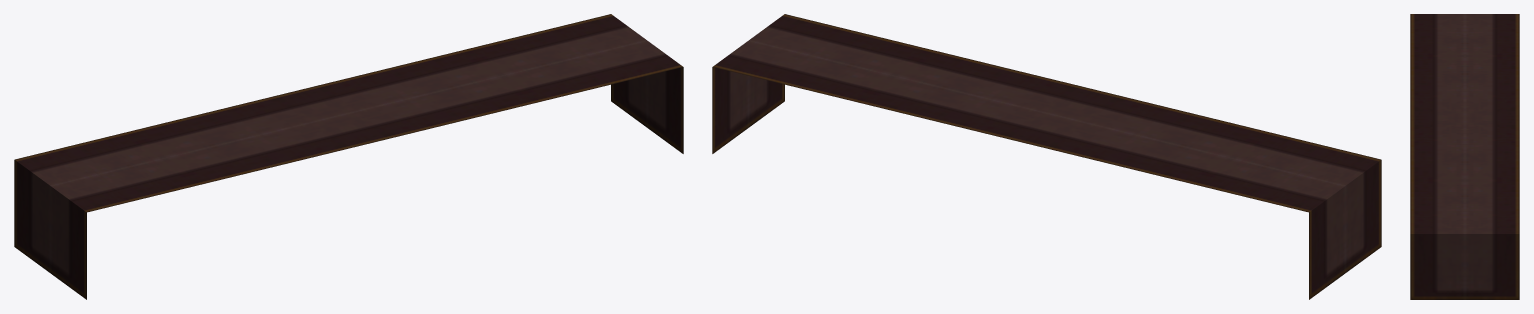
File: Cover_3E.fbx
3 views of the same model, side by side, from view 1: azimuth 30°, elevation 25°; view 2: azimuth 150°, elevation 25°; view 3: azimuth 270°, elevation 25° (orthographic). The views are drawn at different scales.
Parts seen in each view (by area): view 1: polySurface7528; view 2: polySurface7528; view 3: polySurface7528.
Boxes of the visible parts, x1,y1,x2,y2 form: polySurface7528: (14, 14, 683, 299); polySurface7528: (712, 14, 1381, 299); polySurface7528: (1410, 14, 1519, 299).
Size of the model in its own units: 5.71 by 0.8001 by 1.2.
